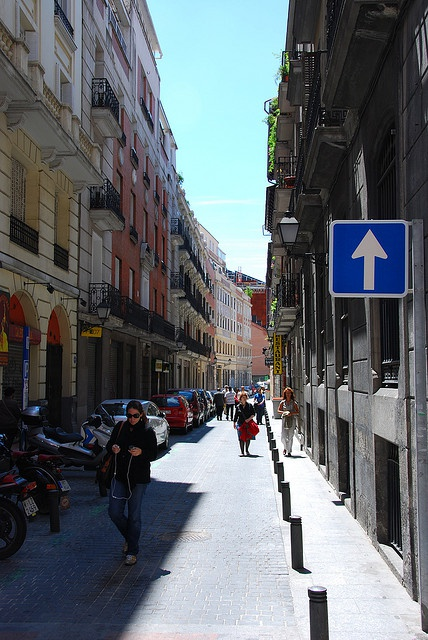non-vehicle: (18, 405, 116, 467), (0, 432, 72, 513), (0, 463, 39, 560)
